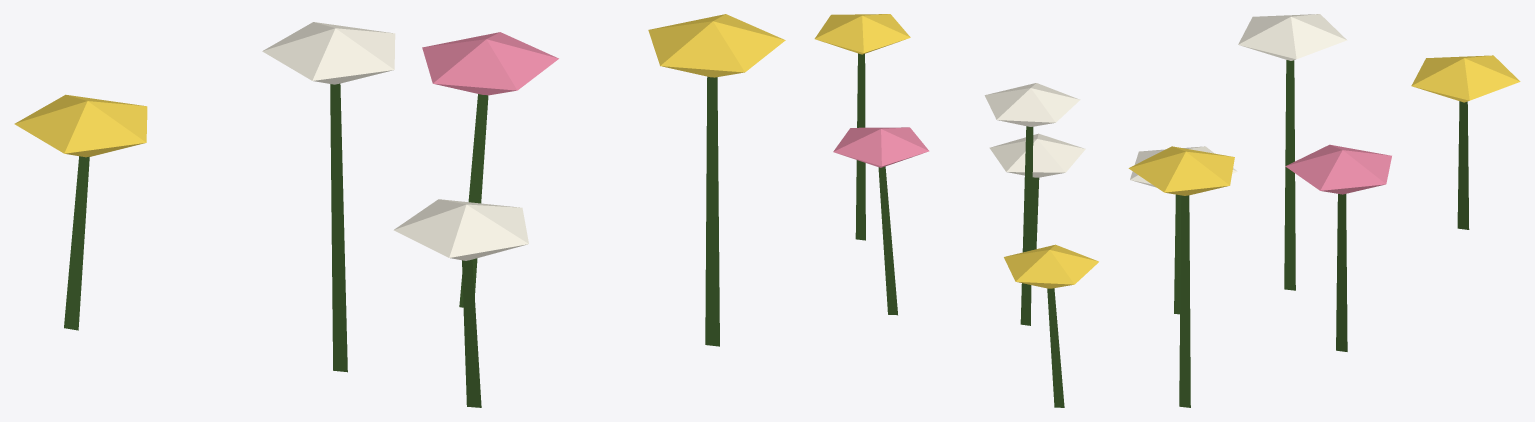
The model's file is deco_flowers.glb.
The picture shows the model from 3 angles, left to right: view 1: azimuth 30°, elevation 25°; view 2: azimuth 150°, elevation 25°; view 3: azimuth 270°, elevation 25°; orthographic projection. The views are drawn at different scales.
Visible parts, largest first — view 1: deco_flowers_mesh; view 2: deco_flowers_mesh; view 3: deco_flowers_mesh.
Part boxes in pixels (x1,y1,x2,y2): deco_flowers_mesh: (14,14,785,407); deco_flowers_mesh: (814,14,1098,407); deco_flowers_mesh: (1128,14,1520,407).
Size of the model in its own units: 0.1414 by 0.0825 by 0.1087.
